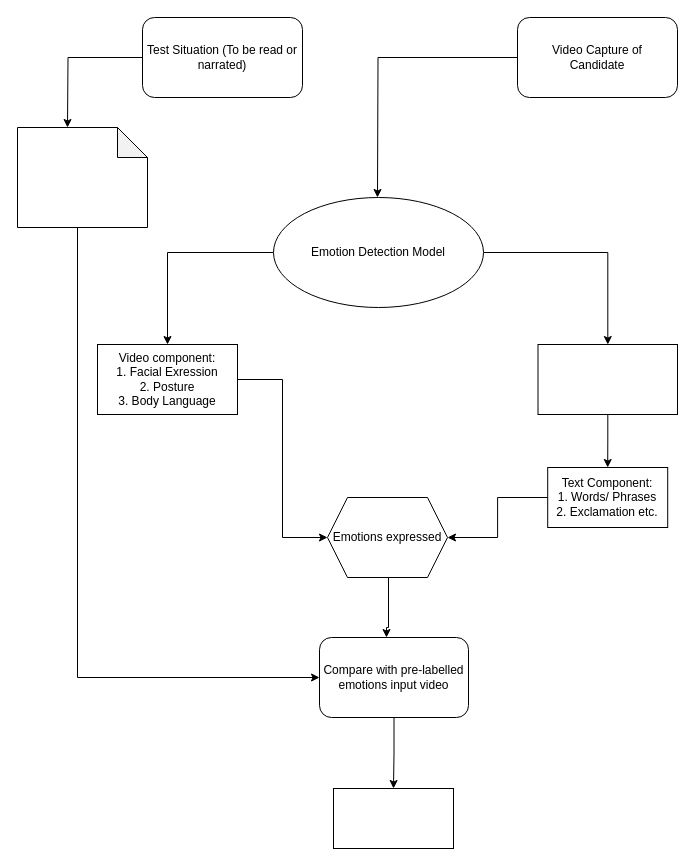
The diagram is 695 pixels wide and 866 high, and some of its shapes have lost their labels. The shapes that lost their labels are listed below. From the top down, each one's centre as x and y in pixels, then its label:
point 82,177: Situation has, pre-defined labels for emotions and expressions
point 607,379: Audio component: 1. Pitch/ tonality 2. Words and Phrases
point 393,818: Score
